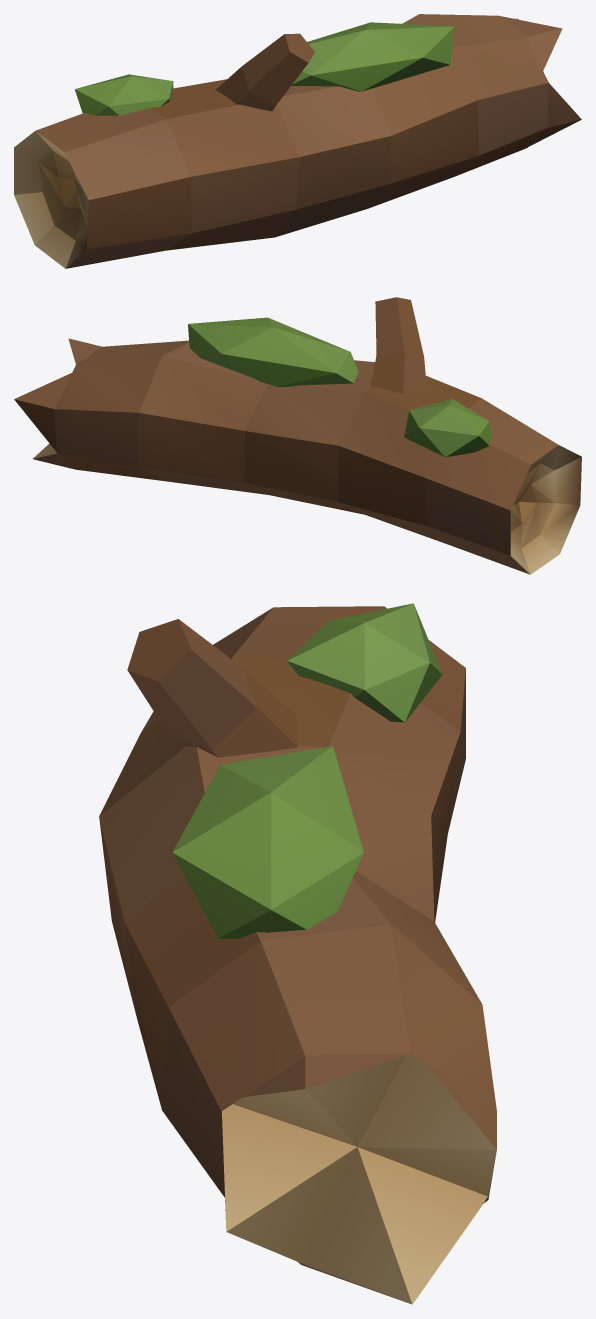
File: ground_log_fallen_v3.fbx
3 renders of one model, top to bottom at view 1: azimuth 30°, elevation 25°; view 2: azimuth 150°, elevation 25°; view 3: azimuth 270°, elevation 25°, orthographic. The views are drawn at different scales.
Parts seen in each view (by area): view 1: ground_log_fallen_v3; view 2: ground_log_fallen_v3; view 3: ground_log_fallen_v3.
Part boxes in pixels (x1,y1,x2,y2): ground_log_fallen_v3: [14, 14, 581, 268]; ground_log_fallen_v3: [14, 297, 581, 574]; ground_log_fallen_v3: [99, 603, 496, 1304].
Bounding box in the file's own units: 789 × 300 × 276.
